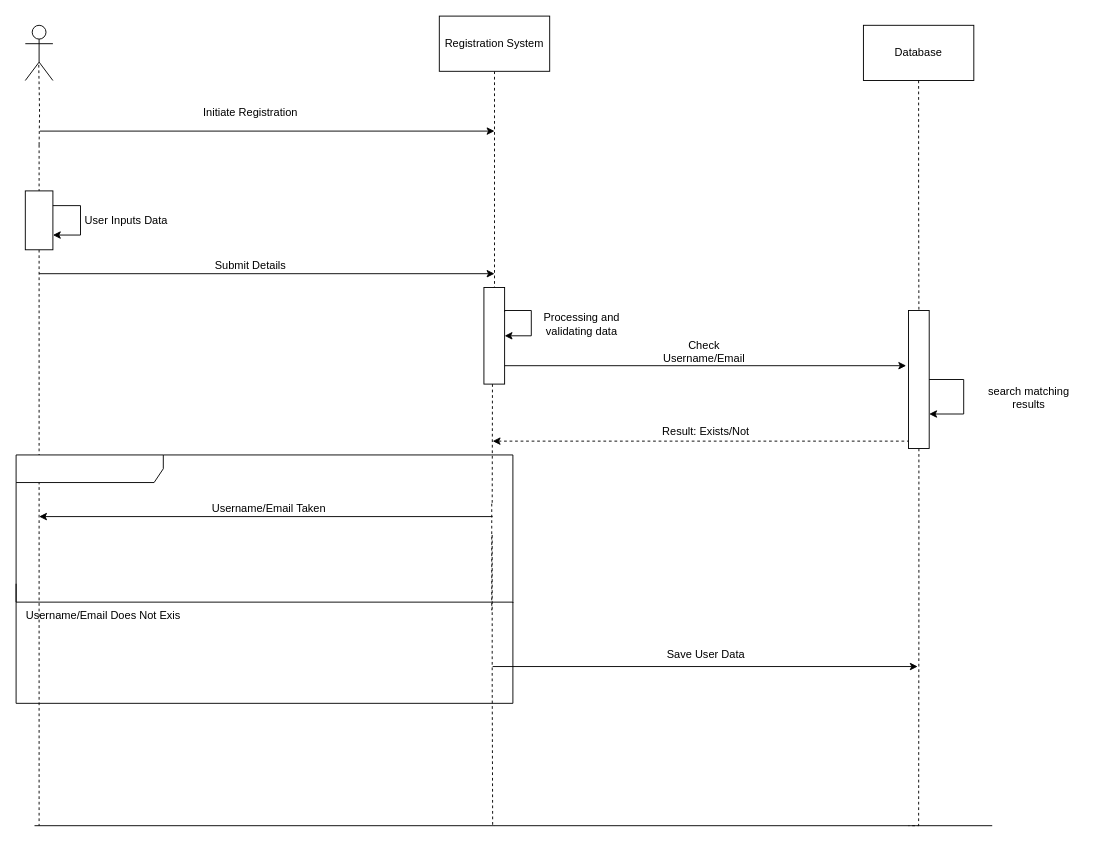
Image size: 1100x843. Some labels were removed from this diagram. The box of each missing label's shape, as (x1, y1, x2, y2) in pixels:
Alt: (15, 454, 513, 703)
User: (24, 24, 53, 80)
